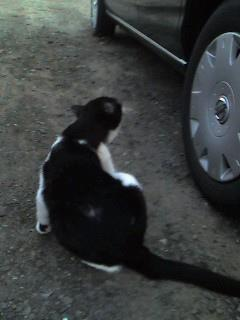car: (89, 2, 240, 220)
